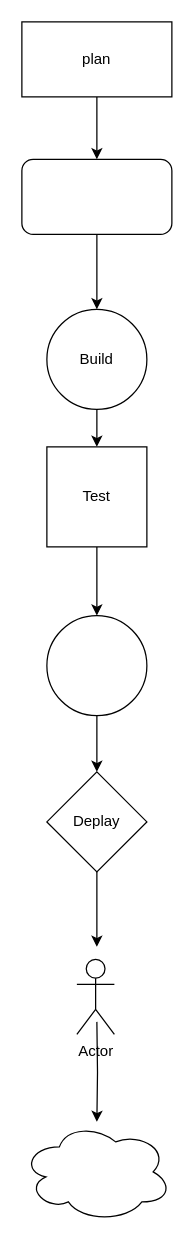
Image size: 194x1244. Some labels were removed from this diagram. Here are the shapes that lost their labels. From the top down, the box of each, then its label:
(21, 158, 172, 234): Develop
(46, 614, 147, 716): Release
(21, 1121, 172, 1222): Monitor
